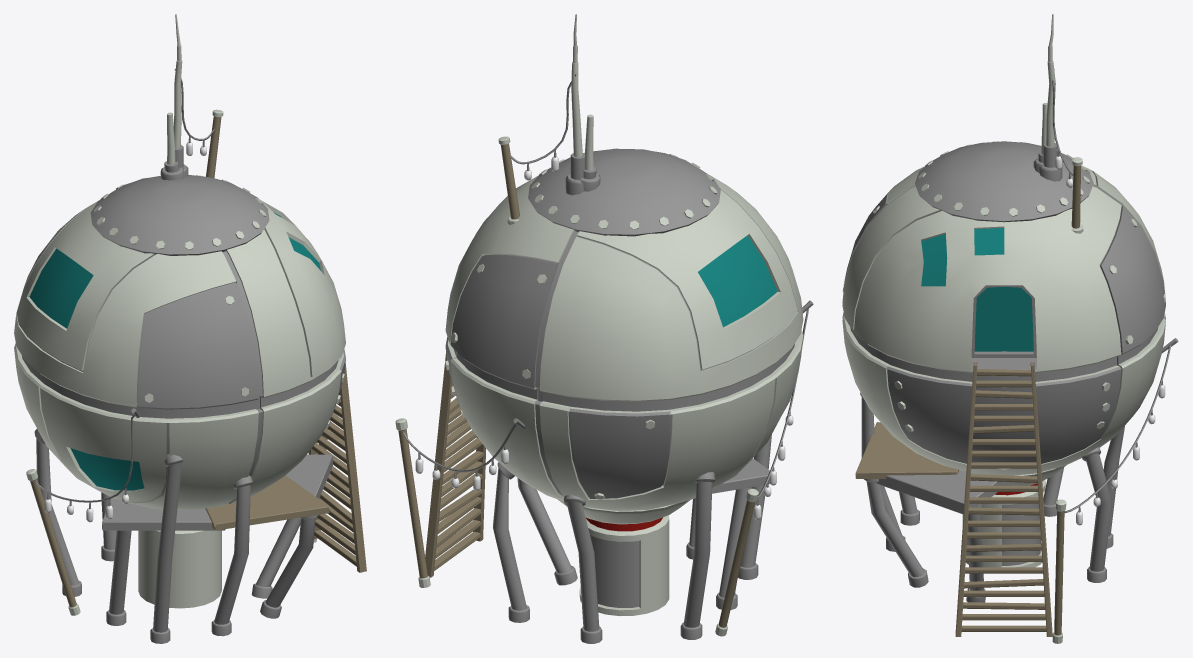
File: SM_caravan_D.fbx
3 renders of one model, left to right at view 1: azimuth 30°, elevation 25°; view 2: azimuth 150°, elevation 25°; view 3: azimuth 270°, elevation 25°, orthographic. The views are drawn at different scales.
Visible parts, largest first — view 1: SM_caravan_D; view 2: SM_caravan_D; view 3: SM_caravan_D.
Boxes of the visible parts, x1,y1,x2,y2 form: SM_caravan_D: (14, 14, 366, 643); SM_caravan_D: (395, 14, 813, 643); SM_caravan_D: (842, 14, 1178, 643).
Size of the model in its own units: 1052 by 1760 by 949.
